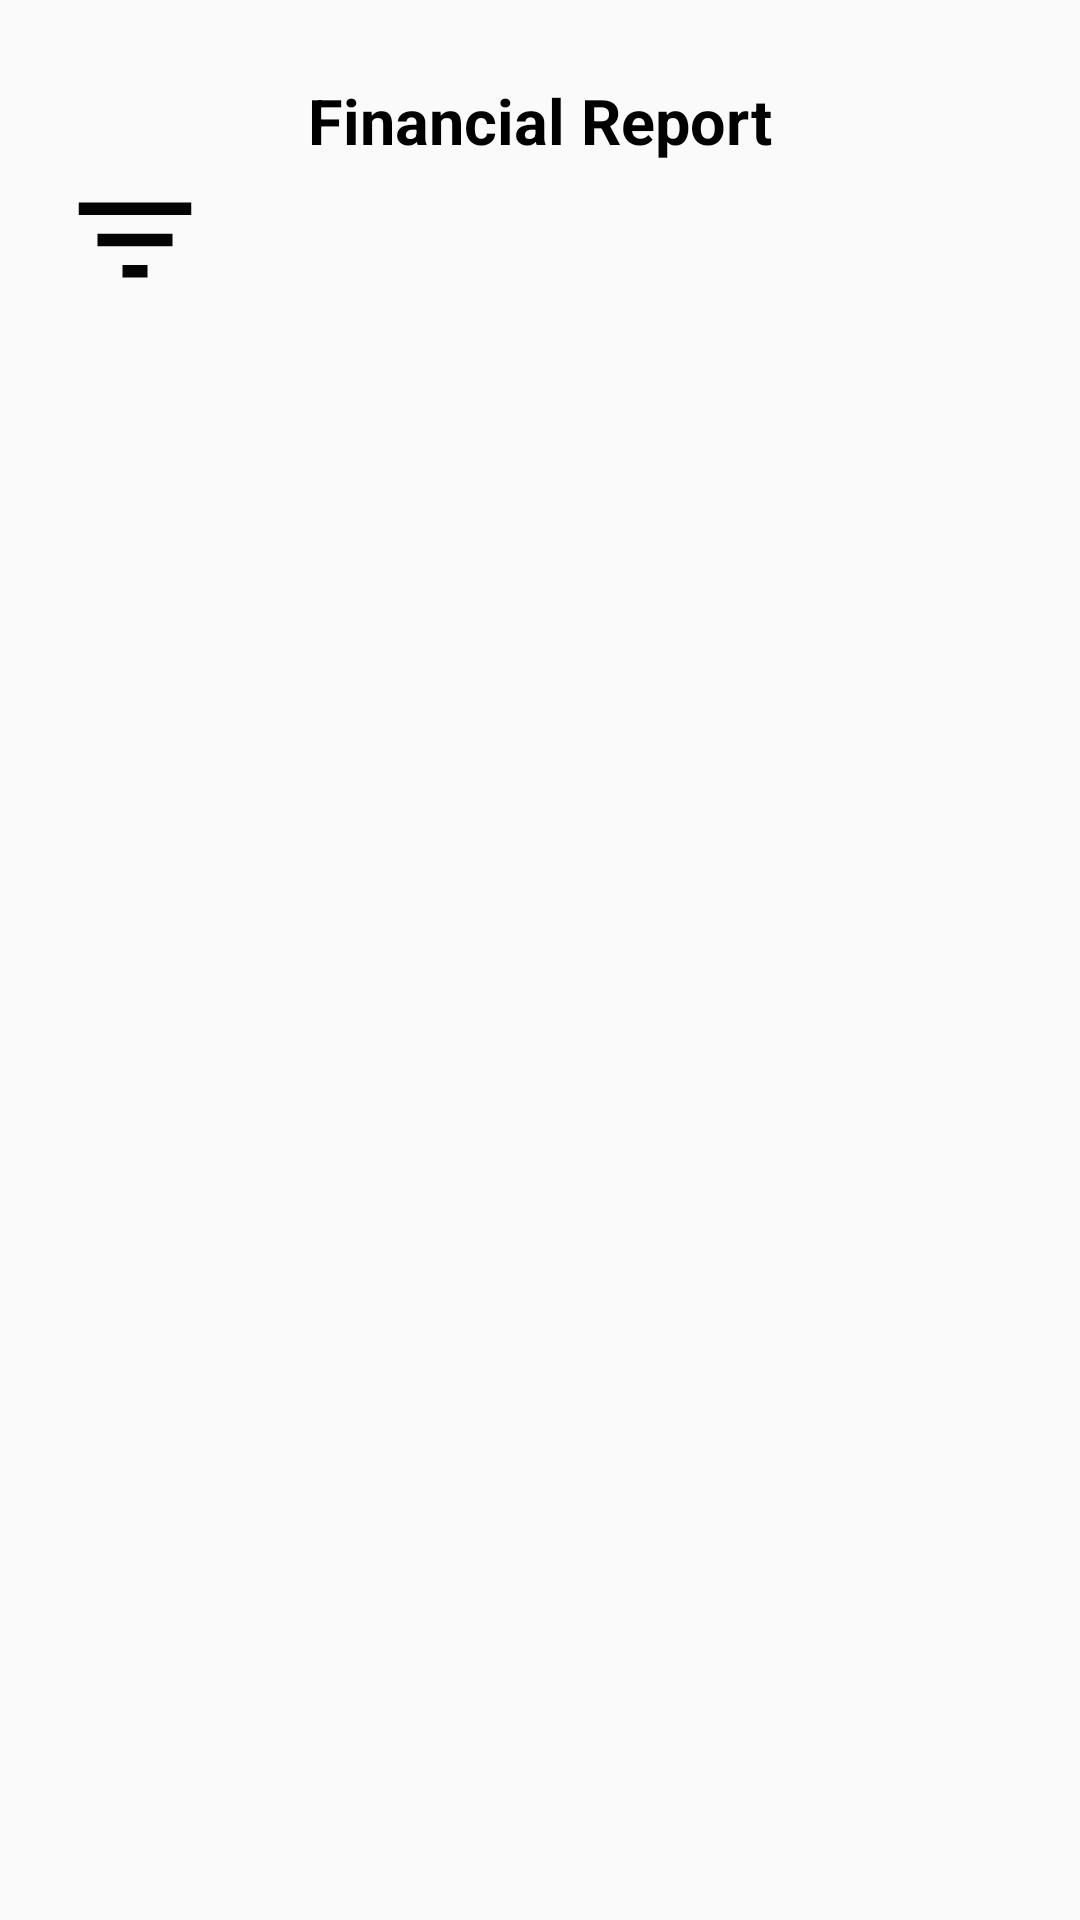

Icons on this 1080*1920 Android screen, each with its box as bbox=(x1, y1, x2, y2):
filter list: bbox=(78, 202, 192, 278)
